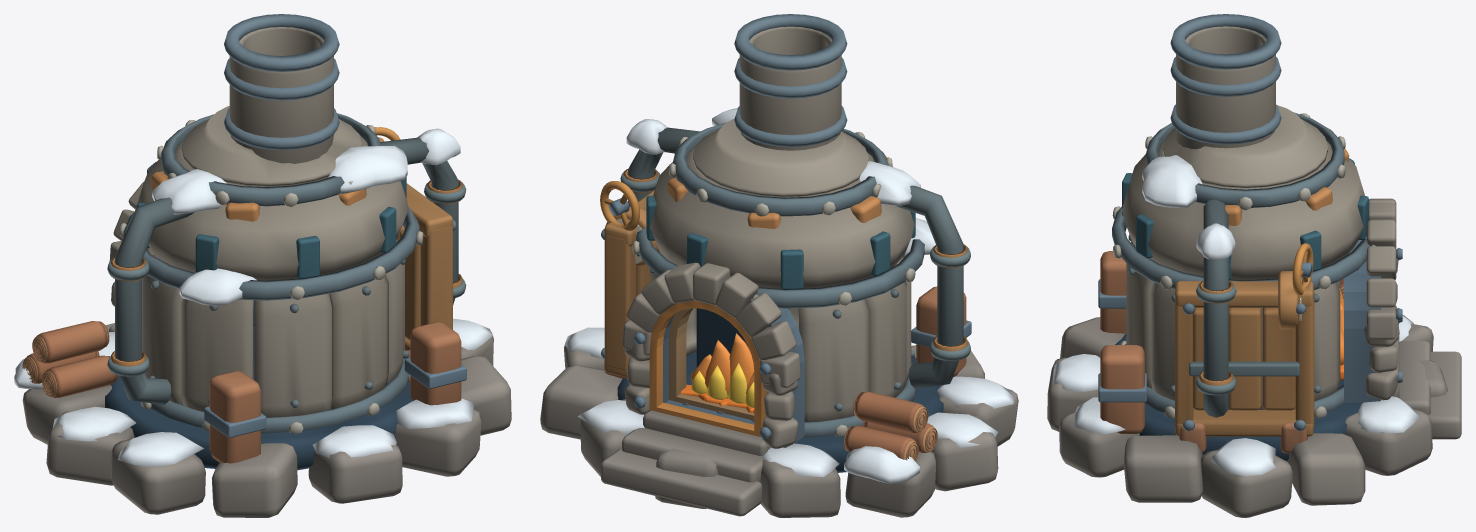
The model's file is hearth_vessel.glb.
3 views of the same model, side by side, from view 1: azimuth 30°, elevation 25°; view 2: azimuth 150°, elevation 25°; view 3: azimuth 270°, elevation 25° (orthographic). The views are drawn at different scales.
Parts seen in each view (by area): view 1: hearth_vessel; view 2: hearth_vessel; view 3: hearth_vessel.
Boxes of the visible parts, <box> form: hearth_vessel: <box>14,14,511,517</box>; hearth_vessel: <box>540,14,1018,517</box>; hearth_vessel: <box>1047,14,1461,517</box>.
Size of the model in its own units: 2.52 by 2.2 by 2.13.
